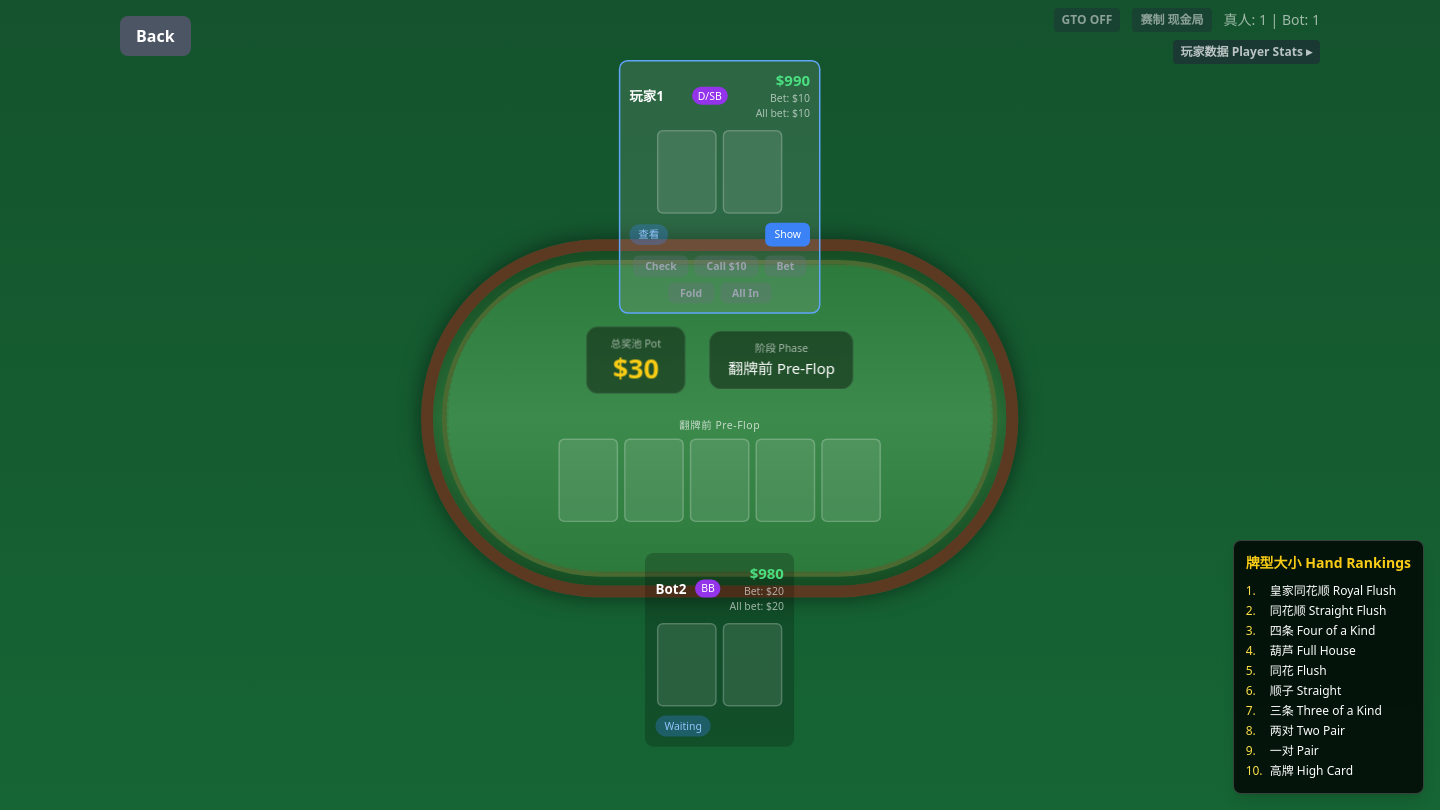
it: GameBoard 右上角「玩家数据」浮层 › 关闭性格时即使长期库里有带快照的手，也不展示类型行（决策 29：不伪装分配）
This screenshot has width=1440, height=810.
Click the button "玩家数据 Player Stats ▸": coordinates (1246, 52) [1172,40,1320,64]
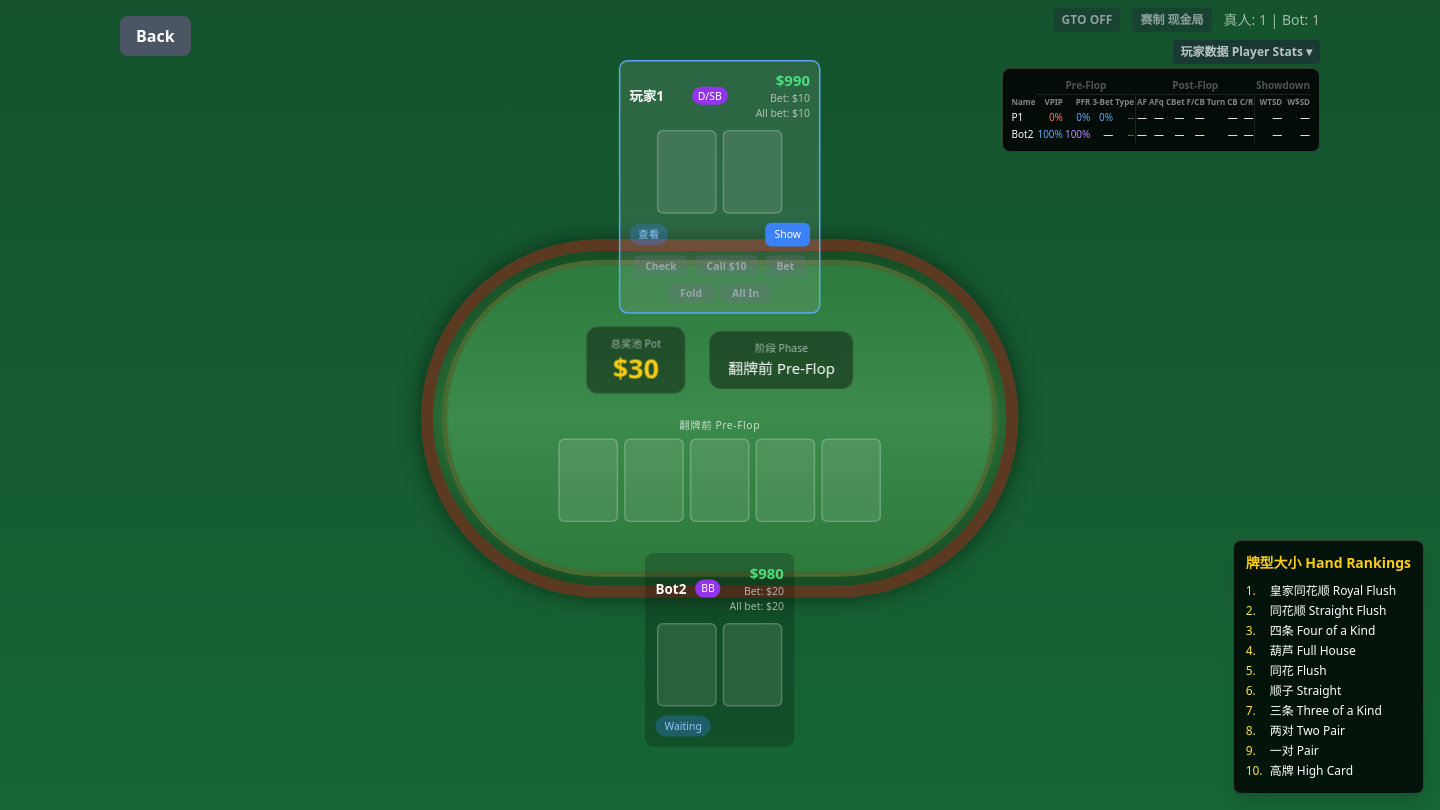
Expected: the text "Bot2" is shown, [1010,126,1036,143]
